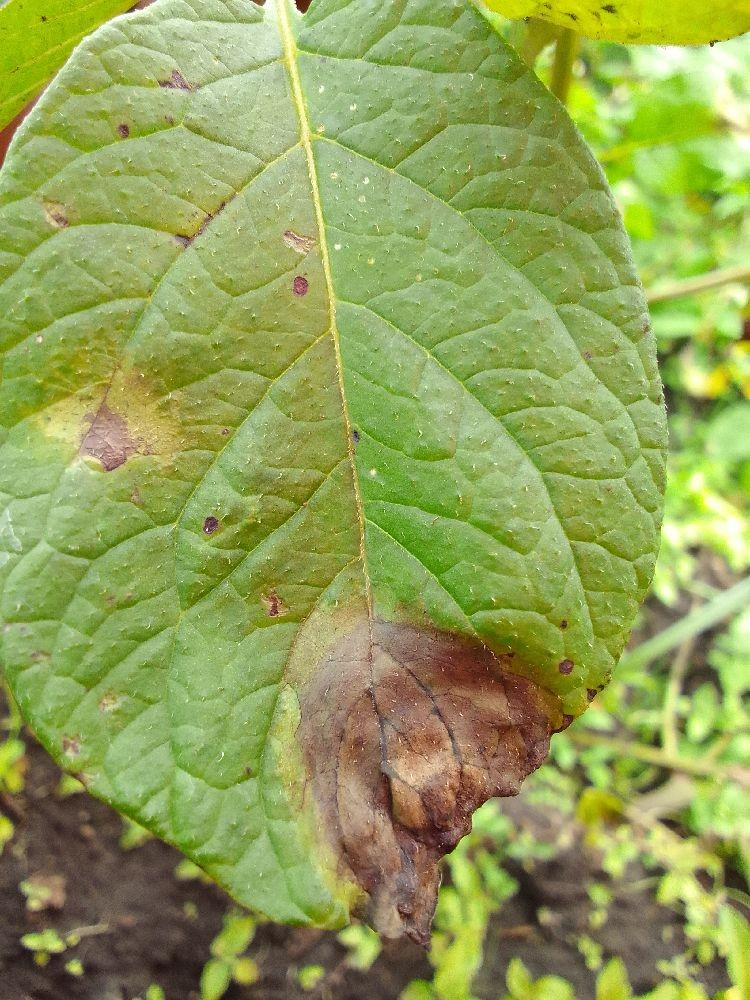late_blight: (0, 562, 749, 999), (39, 341, 216, 490)
